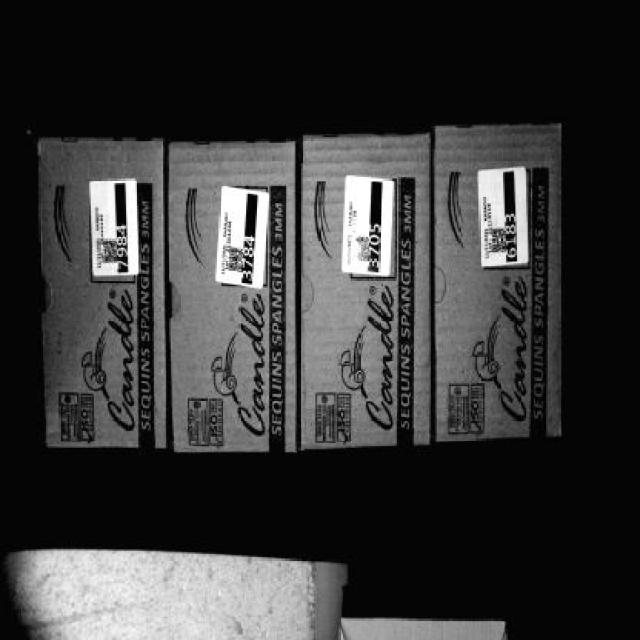cardboxes: (436, 128, 564, 440), (40, 129, 166, 440), (306, 132, 432, 438), (175, 142, 298, 452)
